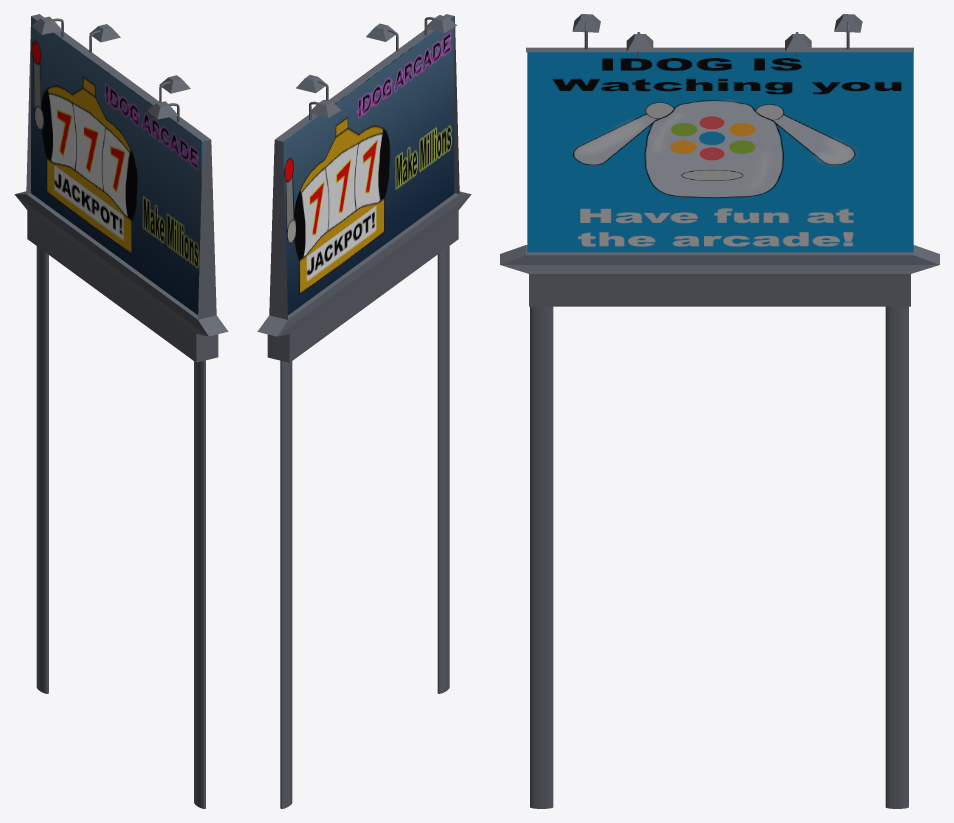
File: billboard (slot and Idog face).fbx
3 renders of one model, left to right at view 1: azimuth 30°, elevation 25°; view 2: azimuth 150°, elevation 25°; view 3: azimuth 270°, elevation 25°, orthographic. The views are drawn at different scales.
Parts seen in each view (by area): view 1: Cube; view 2: Cube; view 3: Cube.
Part boxes in pixels (x1=…): Cube: x1=14, y1=14, x2=228, y2=808; Cube: x1=257, y1=14, x2=471, y2=808; Cube: x1=500, y1=14, x2=939, y2=808.
Bounding box in the file's own units: 412 × 4793 × 2446.
